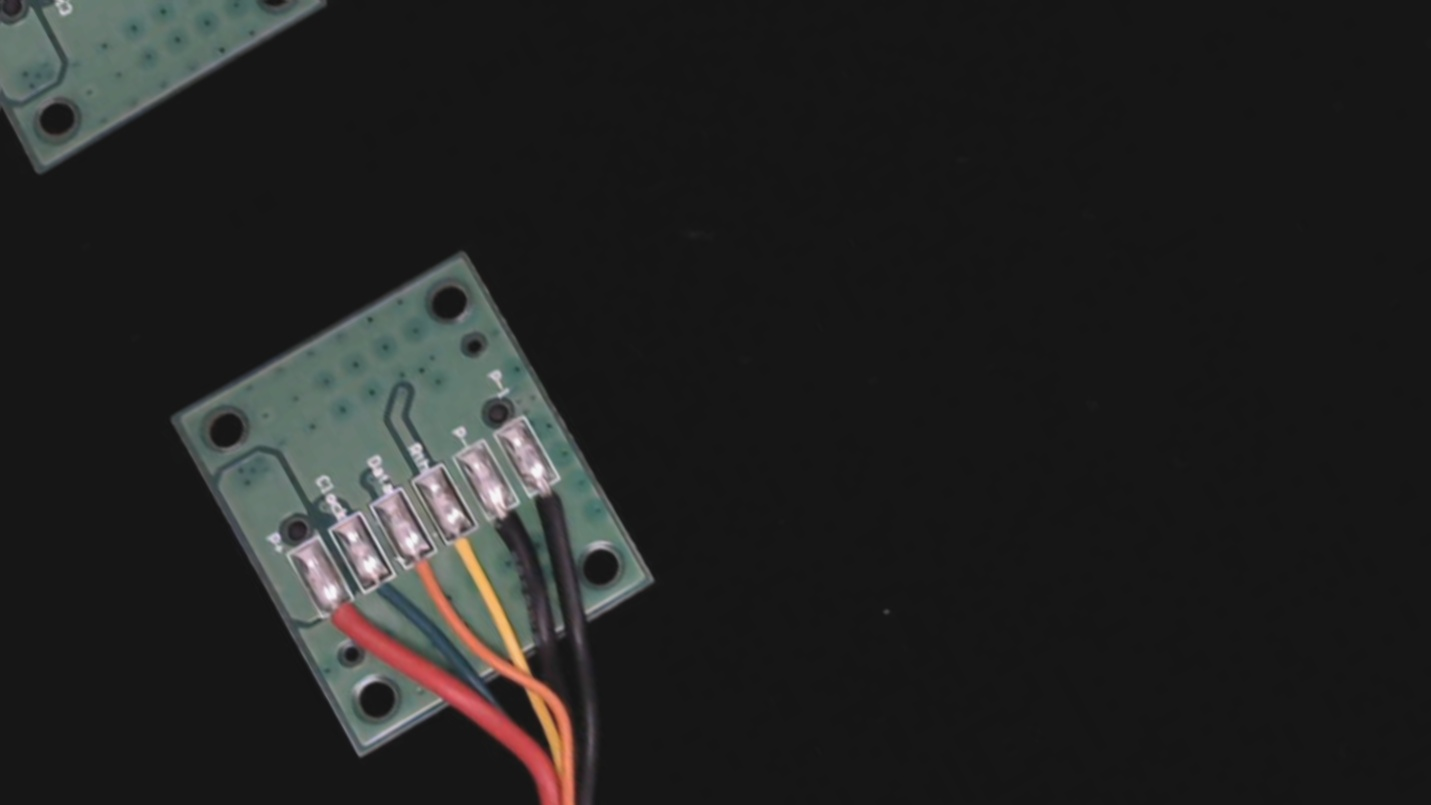Black: (469, 482, 556, 578)
Black1: (512, 455, 594, 545)
Green: (344, 548, 422, 633)
Orange: (386, 526, 470, 621)
Red: (305, 574, 389, 668)
Yellow: (430, 502, 517, 600)
